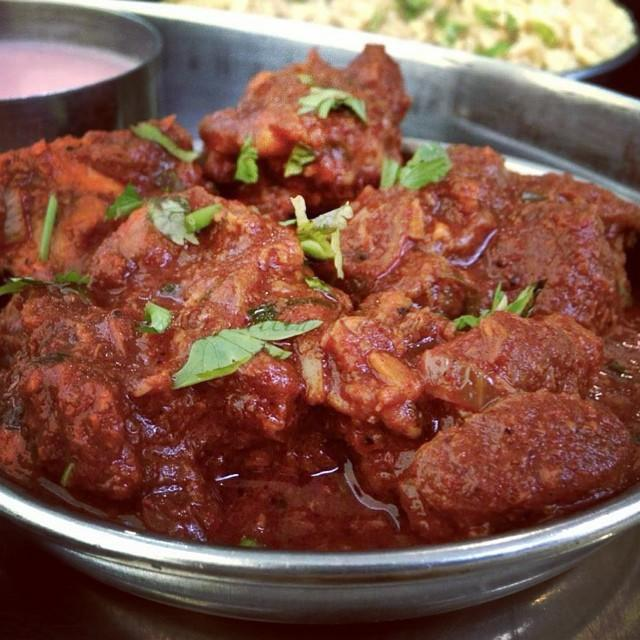MuttonCurry: (0, 40, 640, 541)
